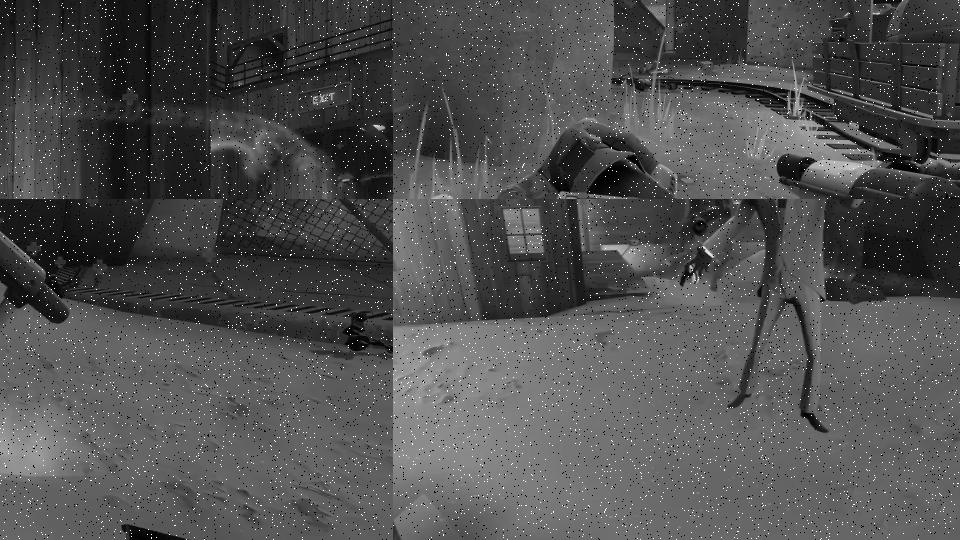Enemy: (682, 199, 880, 434), (484, 115, 773, 199), (677, 199, 735, 292), (638, 60, 669, 75)
